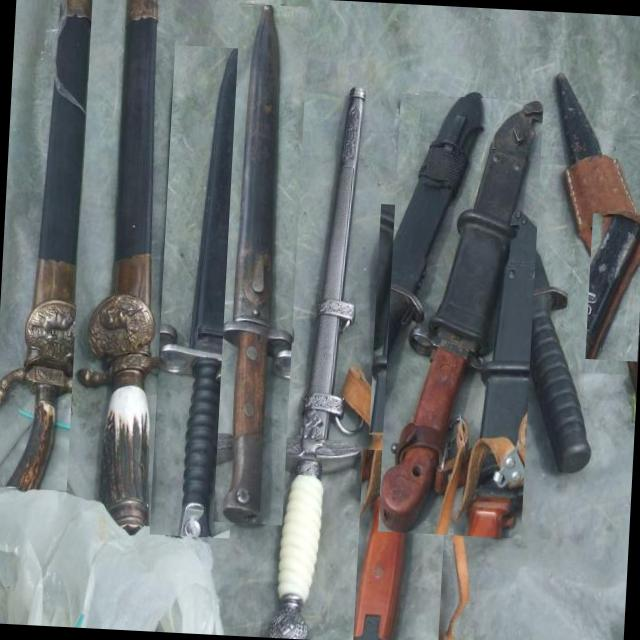Knife: (380, 101, 543, 532), (270, 88, 364, 639), (459, 93, 591, 472), (159, 49, 253, 537), (0, 0, 91, 489), (78, 0, 159, 532), (224, 6, 292, 524), (355, 451, 446, 640), (370, 206, 437, 436), (586, 215, 640, 359), (556, 76, 602, 162)
